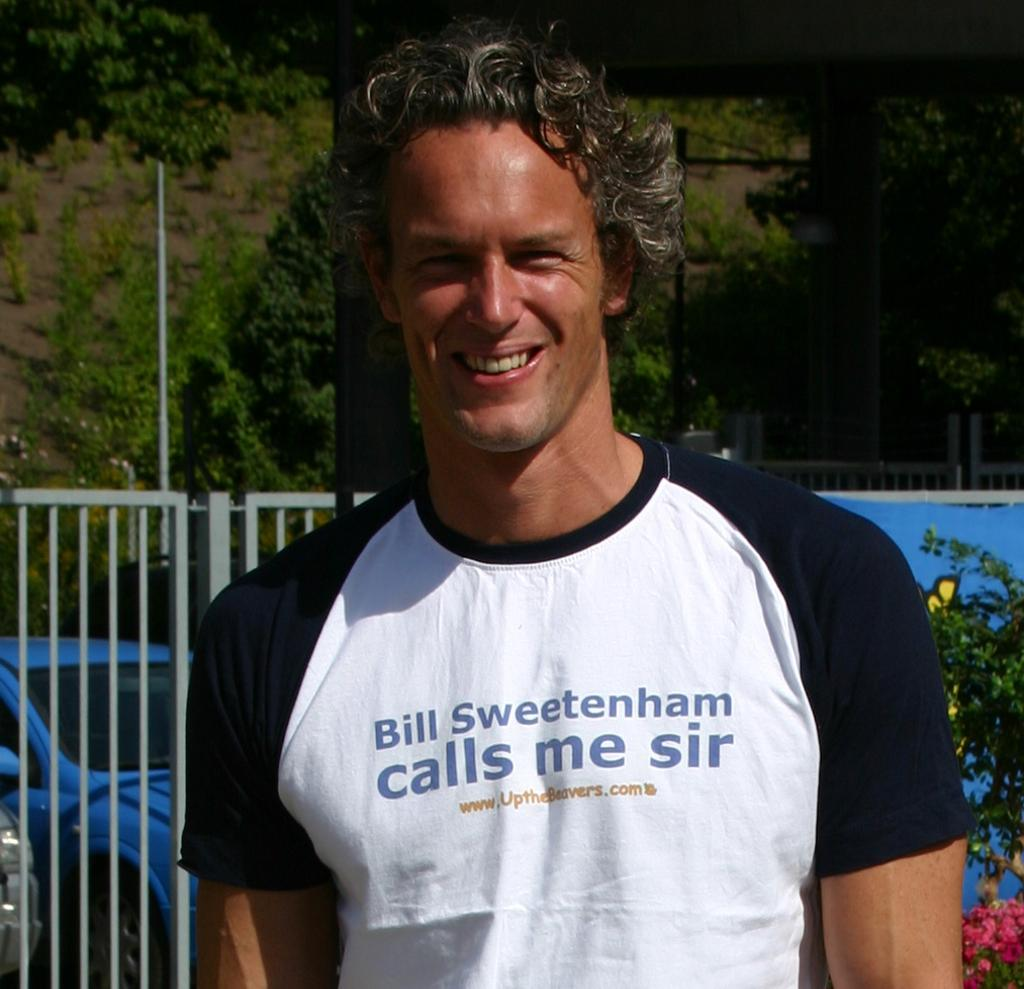face: (392, 156, 606, 448)
